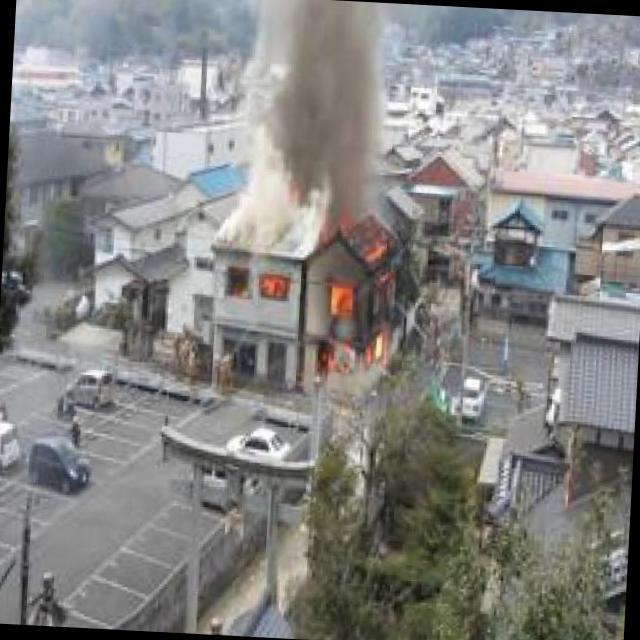Fire: (319, 231, 404, 377), (249, 274, 296, 312)
